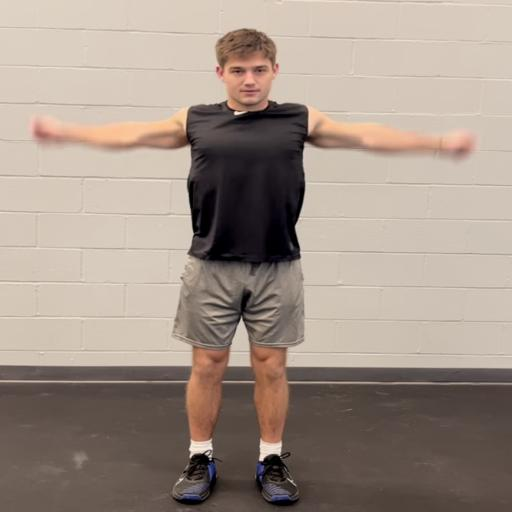Normal_DumbbellBicepCurls: (50, 12, 471, 512)
Normal_JumpingJacks: (14, 18, 506, 502)
